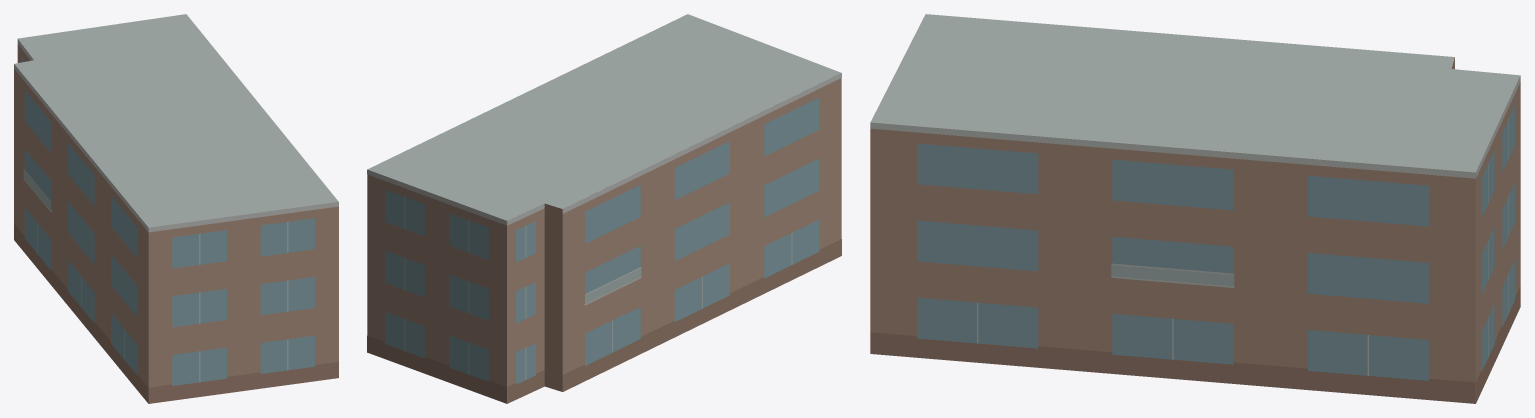
File: survey-upis-32674720.glb
3 renders of one model, left to right at view 1: azimuth 30°, elevation 25°; view 2: azimuth 150°, elevation 25°; view 3: azimuth 270°, elevation 25°, orthographic. The views are drawn at different scales.
Parts seen in each view (by area): view 1: survey-upis-32674720.tmp; view 2: survey-upis-32674720.tmp; view 3: survey-upis-32674720.tmp.
Part boxes in pixels (<box>): survey-upis-32674720.tmp: <box>14,14,338,403</box>; survey-upis-32674720.tmp: <box>367,14,841,403</box>; survey-upis-32674720.tmp: <box>870,14,1520,403</box>.
Size of the model in its own units: 13.45 by 9.15 by 23.32.
